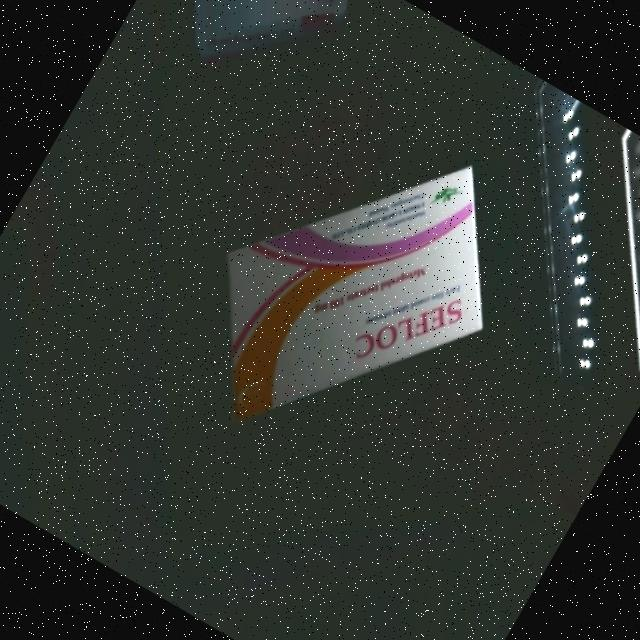medicine_name_detection: (162, 84, 551, 498)
